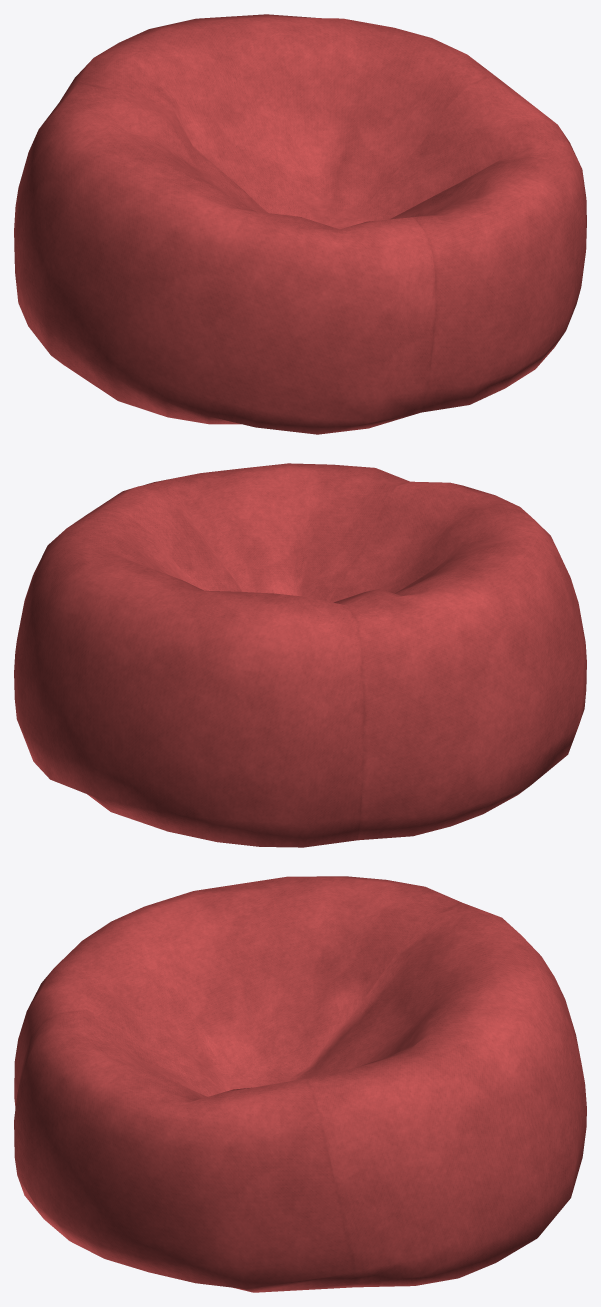
Rendered from bean_bag01_red_vrs.fbx.
3 renders of one model, top to bottom at view 1: azimuth 30°, elevation 25°; view 2: azimuth 150°, elevation 25°; view 3: azimuth 270°, elevation 25°, orthographic. The views are drawn at different scales.
Visible parts, largest first — view 1: bean bag low poly.001; view 2: bean bag low poly.001; view 3: bean bag low poly.001.
Part boxes in pixels (x1,y1,x2,y2): bean bag low poly.001: [14, 14, 586, 434]; bean bag low poly.001: [14, 463, 586, 847]; bean bag low poly.001: [14, 876, 586, 1292].
Size of the model in its own units: 152 by 65.75 by 152.
